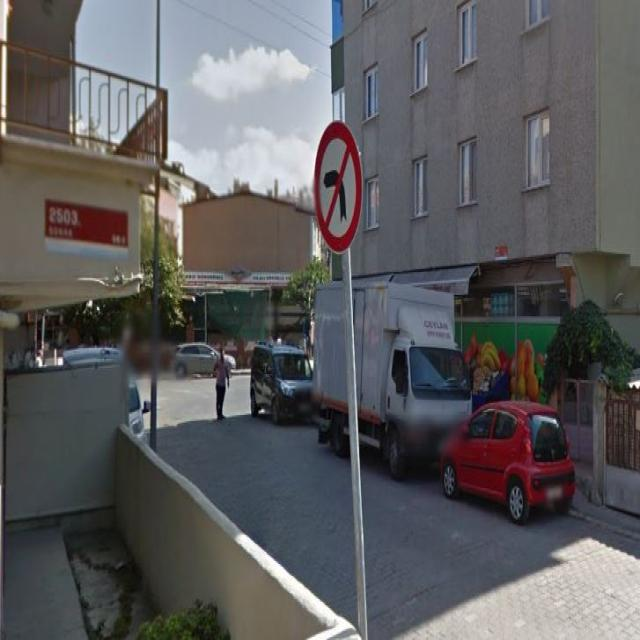soladonulmez: (315, 122, 362, 256)
